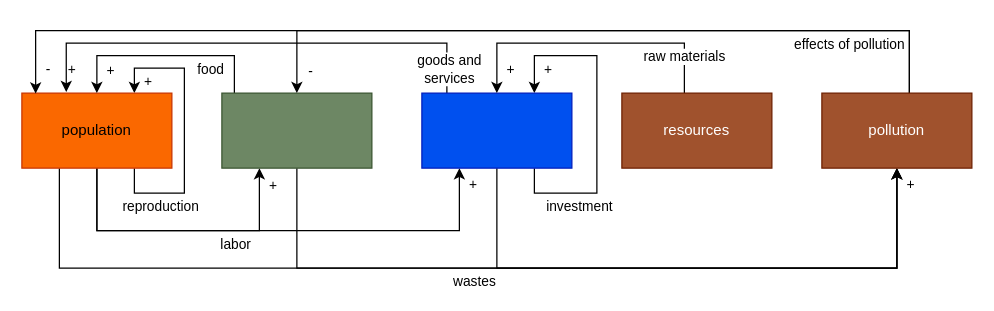
The diagram is 994 pixels wide and 311 high, and some of its shapes have lost their labels. Each missing label, with the centre of its shape:
"agriculture" goes at (x=296, y=130).
"industry" goes at (x=496, y=130).
